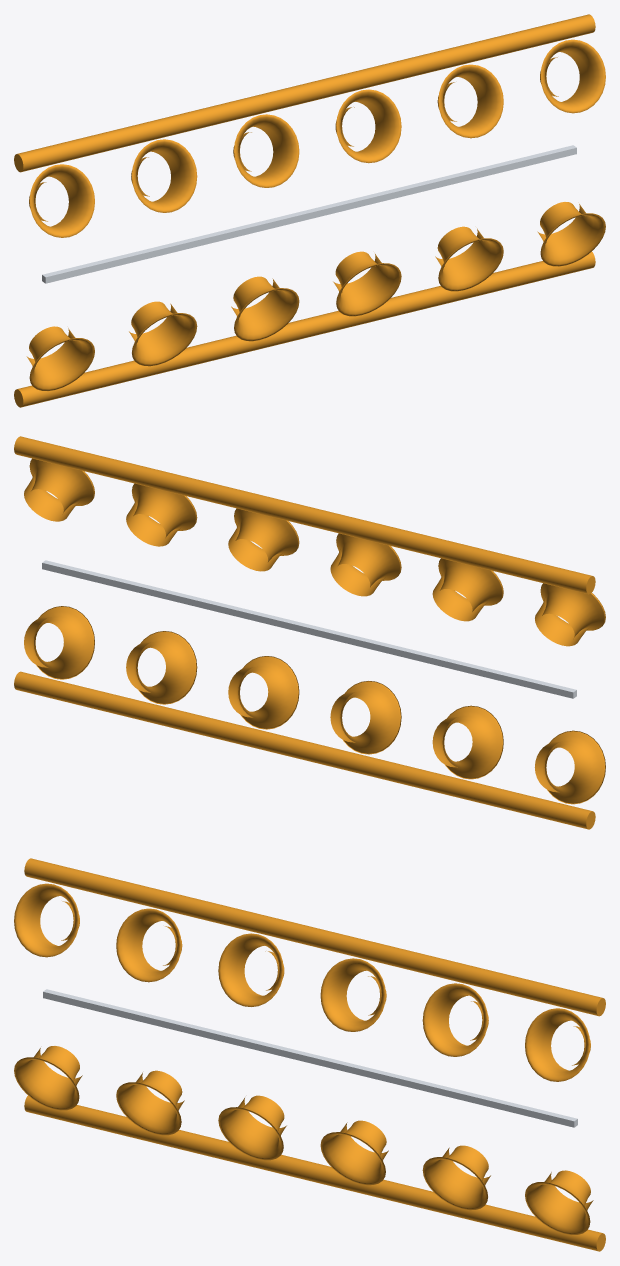
Rendered from engine_cover_exposed_itb.glb.
3 renders of one model, top to bottom at view 1: azimuth 30°, elevation 25°; view 2: azimuth 150°, elevation 25°; view 3: azimuth 330°, elevation 25°, orthographic.
Parts seen in each view (by area): view 1: Model6_Exposed_ITB_Purist; view 2: Model6_Exposed_ITB_Purist; view 3: Model6_Exposed_ITB_Purist.
Boxes of the visible parts, box(x1,y1,x2,y2) form: Model6_Exposed_ITB_Purist: box(14, 14, 605, 407); Model6_Exposed_ITB_Purist: box(14, 436, 605, 829); Model6_Exposed_ITB_Purist: box(14, 858, 605, 1251).
Bounding box in the file's own units: 0.5625 × 0.236 × 0.0476.
